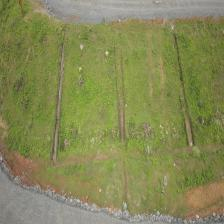rock_toe: (47, 186, 224, 223)
slope_drain: (52, 37, 65, 162)
